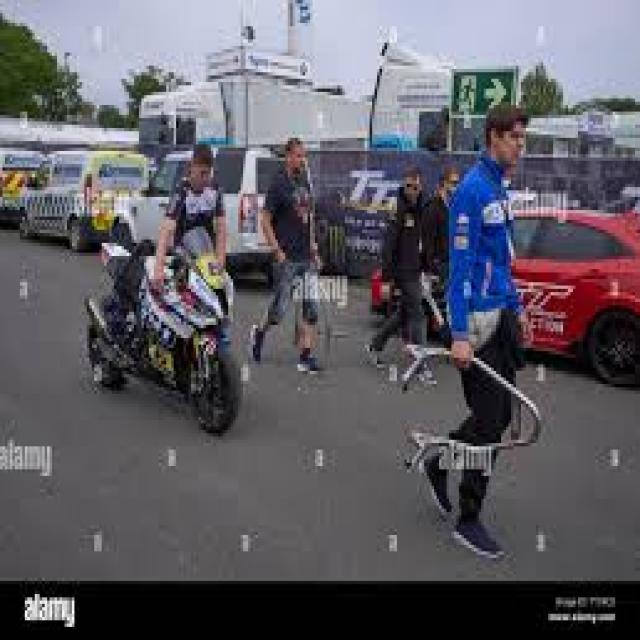bike: (89, 237, 235, 418)
